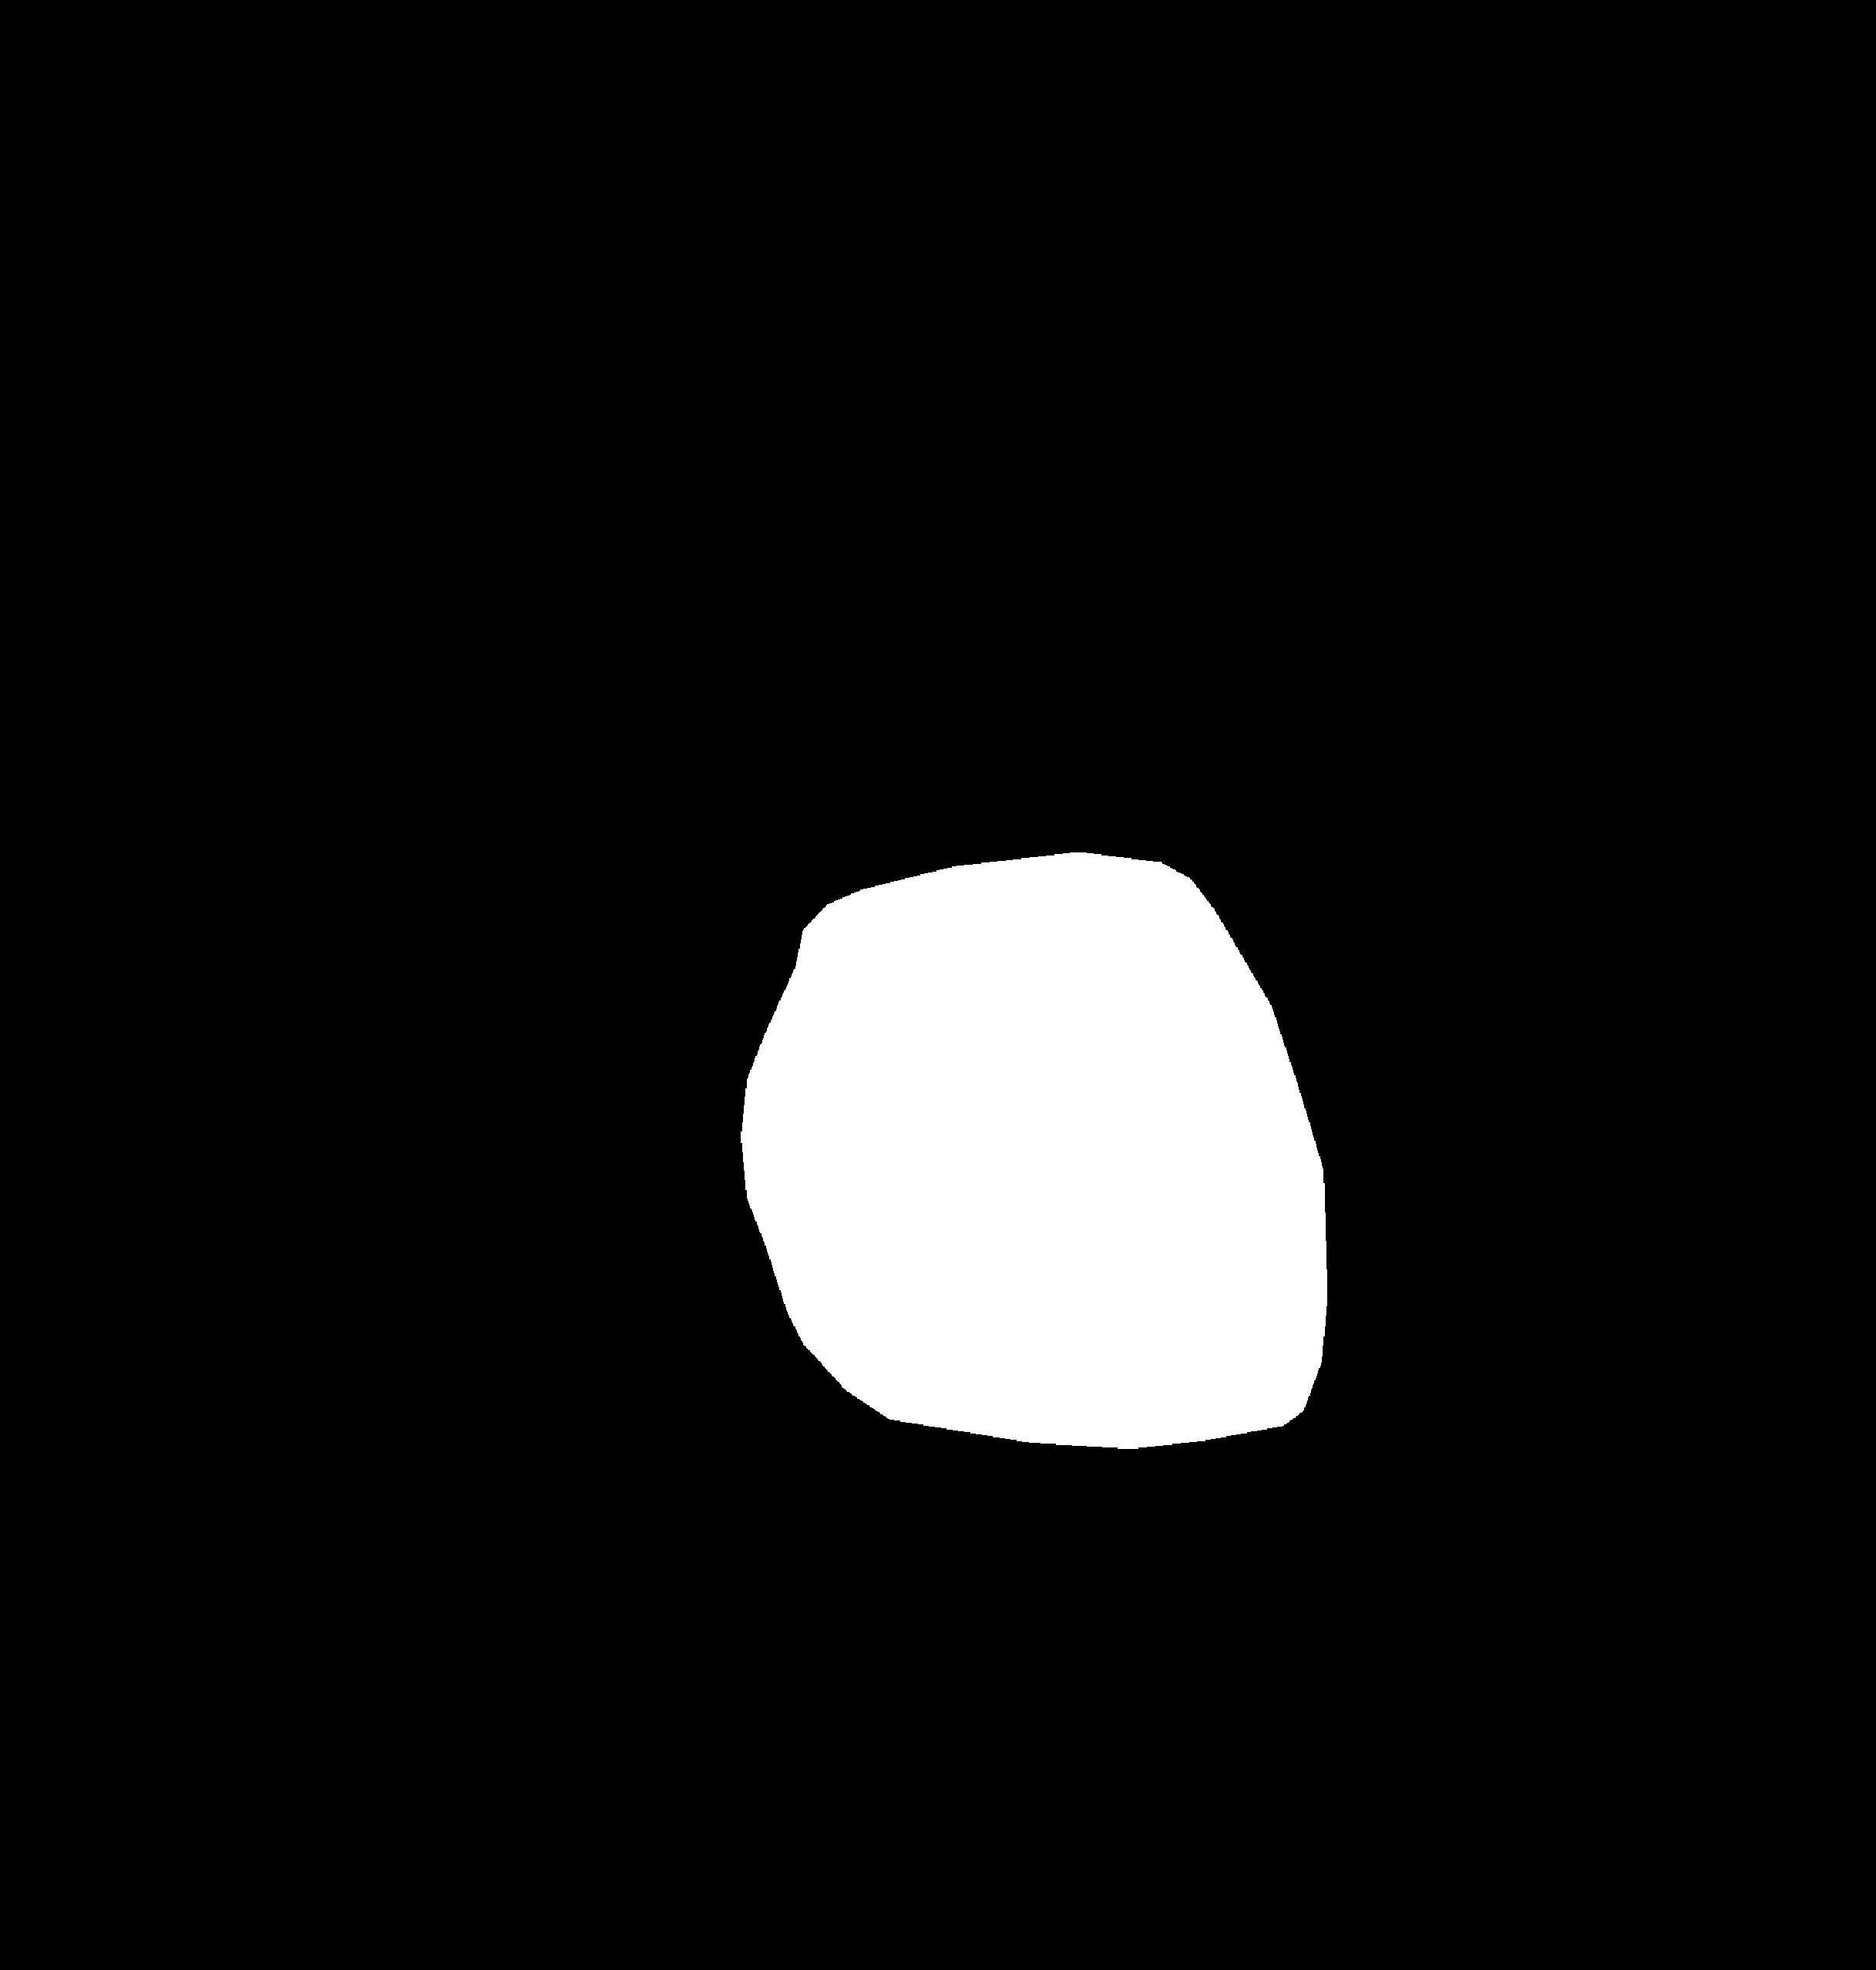heart: (742, 923, 1320, 1467)
left_lung: (193, 176, 840, 1602)
right_lung: (999, 151, 1642, 1671)
